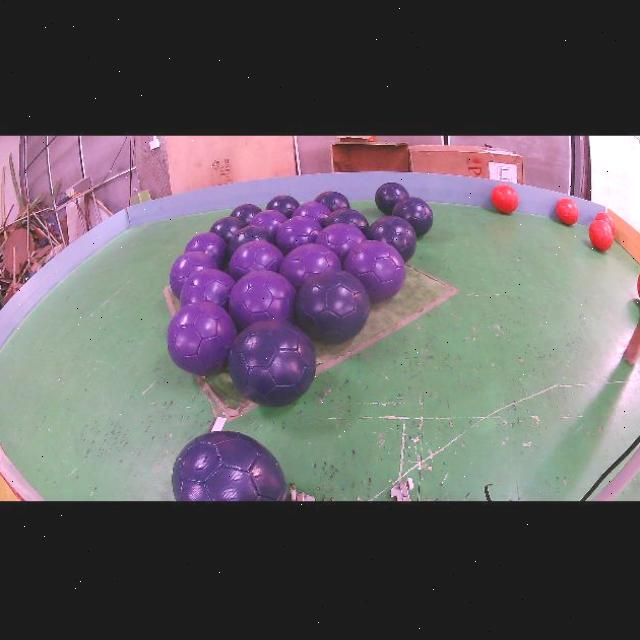B: (172, 431, 286, 501), (229, 319, 316, 405), (296, 269, 370, 343), (366, 215, 417, 261), (393, 196, 433, 236), (228, 225, 275, 257), (375, 182, 409, 215), (327, 207, 369, 233), (210, 215, 245, 243), (266, 195, 300, 217), (230, 202, 262, 224), (315, 191, 349, 211)
P: (167, 300, 236, 375), (229, 269, 296, 328), (344, 239, 405, 302), (280, 243, 342, 290), (169, 250, 219, 297), (179, 268, 235, 309), (229, 240, 283, 280), (315, 222, 366, 261), (276, 215, 323, 255), (184, 231, 228, 269), (249, 209, 287, 236), (292, 201, 332, 226)
R: (492, 182, 518, 212), (589, 219, 614, 250), (556, 197, 579, 224), (595, 211, 615, 233), (638, 274, 640, 298)
